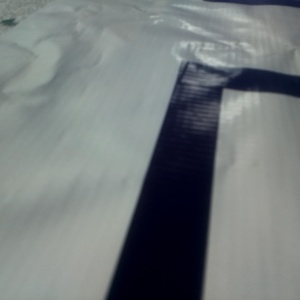top_right: (46, 114, 193, 219)
